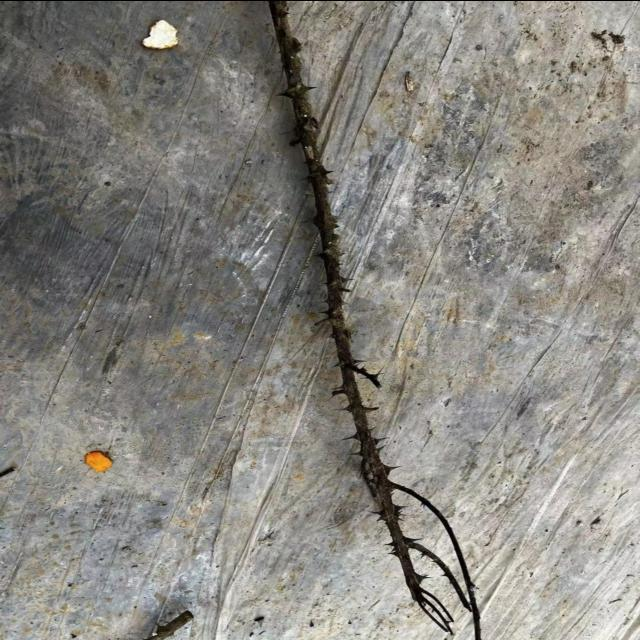branch: (274, 0, 482, 640)
